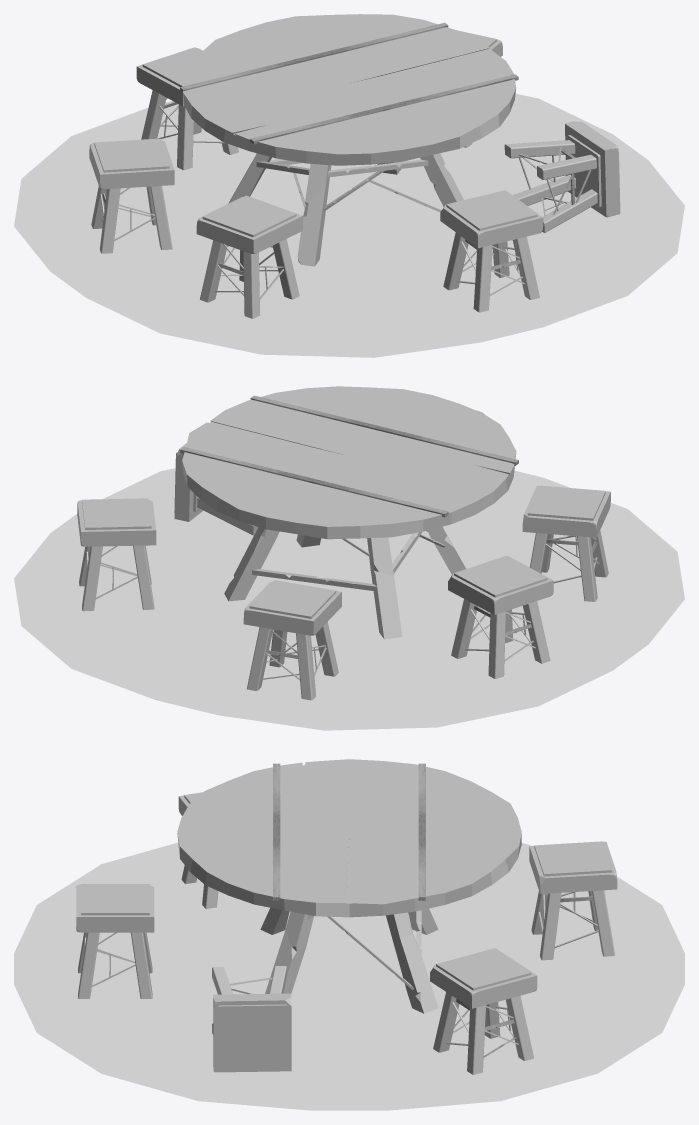
File: moz.fbx
3 renders of one model, top to bottom at view 1: azimuth 30°, elevation 25°; view 2: azimuth 150°, elevation 25°; view 3: azimuth 270°, elevation 25°, orthographic. The views are drawn at different scales.
Parts seen in each view (by area): view 1: Plane, Cylinder, Cube, Cube.030, Cube.013, Cube.098, Cube.001, Cube.081, Cube.028, Cube.097, Cube.012, Cube.080 (+8 smaller); view 2: Plane, Cylinder, Cube, Cube.064, Cube.081, Cube.001, Cube.080, Cube.098, Cube.063, Cube.097, Cube.046, Cube.079 (+6 smaller); view 3: Plane, Cylinder, Cube, Cube.029, Cube.047, Cube.064, Cube.046, Cube.063, Cube.012, Cube.001, Cube.045, Cube.013 (+4 smaller).
Boxes of the visible parts, box(x1,y1,x2,y2) form: Plane: box(14, 94, 684, 357); Cylinder: box(182, 14, 516, 165); Cube: box(228, 153, 463, 266); Cube.030: box(504, 140, 597, 232); Cube.013: box(443, 232, 539, 312); Cube.098: box(200, 239, 299, 318); Cube.001: box(180, 22, 518, 144); Cube.081: box(91, 186, 172, 253); Cube.028: box(565, 121, 620, 217); Cube.097: box(202, 195, 296, 237); Cube.012: box(446, 190, 537, 230); Cube.080: box(94, 138, 169, 172); Plane: box(14, 468, 684, 730); Cylinder: box(182, 386, 516, 539); Cube: box(224, 526, 466, 639); Cube.064: box(247, 622, 338, 700); Cube.081: box(451, 599, 550, 678); Cube.001: box(180, 395, 518, 517); Cube.080: box(454, 556, 547, 597); Cube.098: box(530, 530, 608, 601); Cube.063: box(249, 580, 336, 618); Cube.097: box(527, 485, 605, 520); Cube.046: box(82, 498, 151, 529); Cube.079: box(448, 555, 553, 614); Plane: box(14, 842, 684, 1110); Cylinder: box(177, 759, 521, 917); Cube: box(260, 907, 438, 1013); Cube.029: box(218, 1004, 287, 1069); Cube.047: box(433, 992, 533, 1074); Cube.064: box(531, 890, 615, 960); Cube.046: box(436, 948, 531, 990); Cube.063: box(534, 841, 612, 876); Cube.012: box(81, 884, 149, 915); Cube.001: box(273, 763, 425, 900); Cube.045: box(430, 948, 537, 1008); Cube.013: box(78, 932, 152, 998).
Size of the model in its own units: 465 by 106 by 465.
